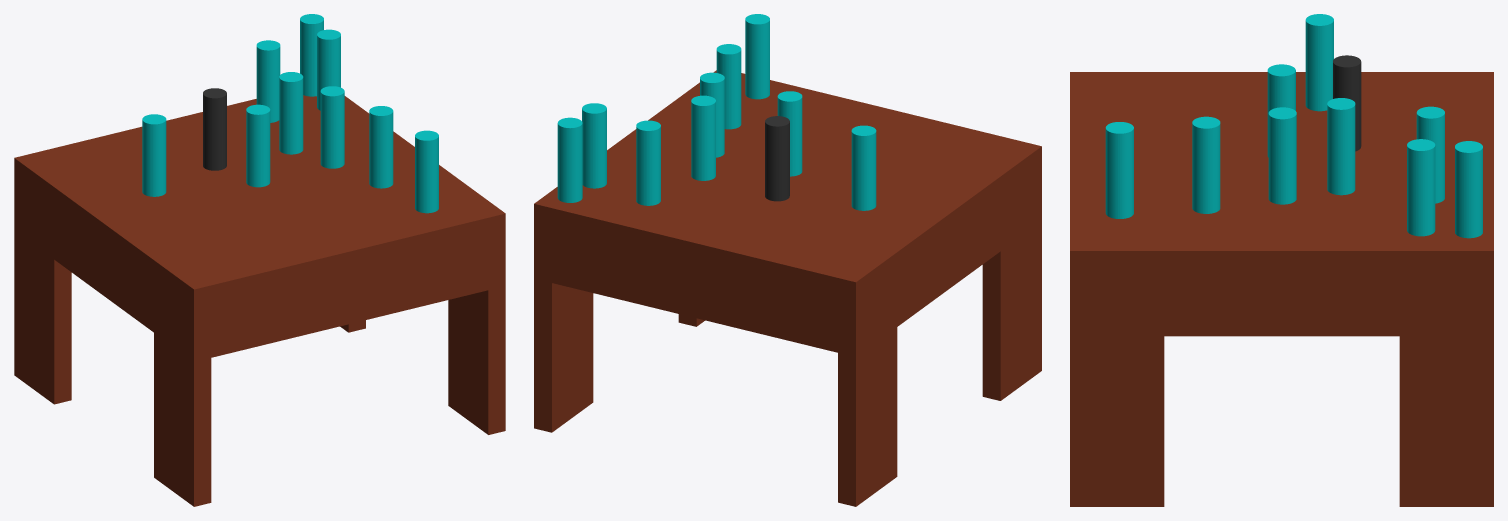
File: can_world_10_cans.dae
The picture shows the model from 3 angles, left to right: view 1: azimuth 30°, elevation 25°; view 2: azimuth 150°, elevation 25°; view 3: azimuth 270°, elevation 25°; orthographic projection. The views are drawn at different scales.
Visible parts, largest first — view 1: base (×14); view 2: base (×14); view 3: base (×13).
Part boxes in pixels (x1,y1,x2,y2): base (×14): [14, 14, 505, 506]; base (×14): [534, 14, 1041, 506]; base (×13): [1070, 14, 1493, 506].
Size of the model in its own units: 0.9 by 0.9 by 0.811.
